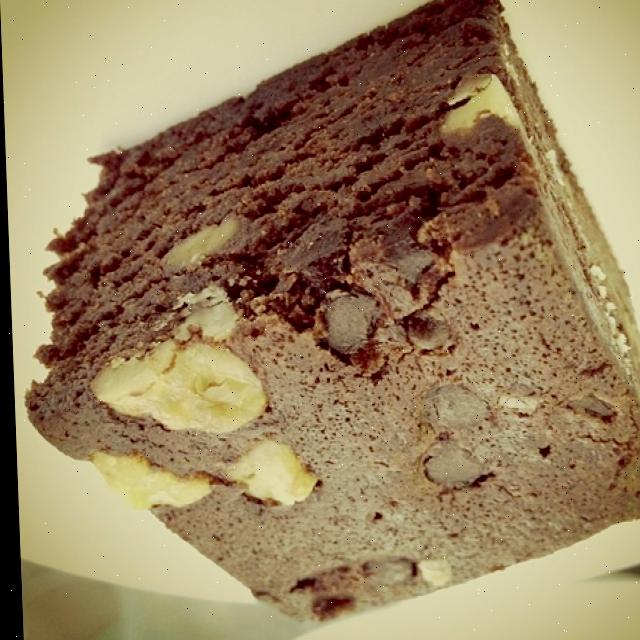蛋糕甜品: (11, 0, 640, 629)
